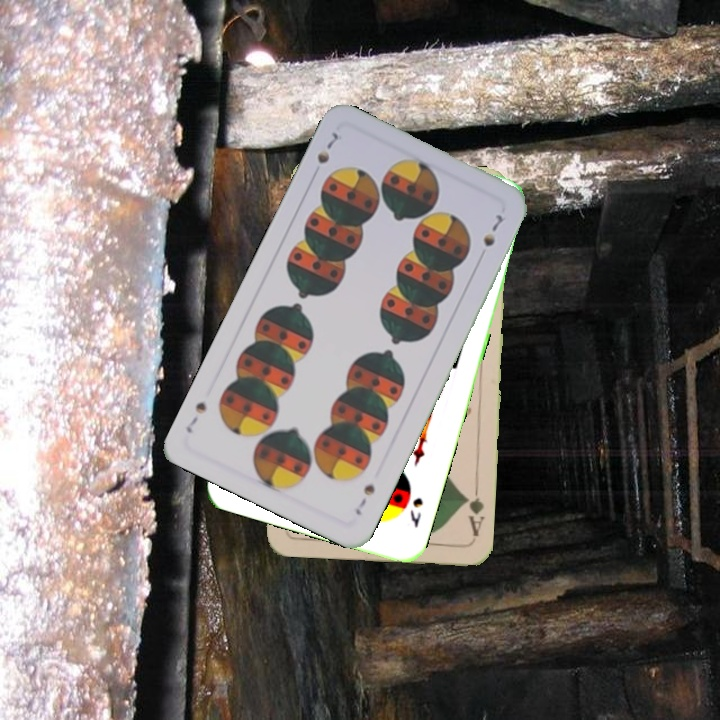GA: (460, 481, 487, 539)
S7: (313, 128, 341, 166), (351, 480, 378, 518)
SK: (406, 493, 426, 530)
